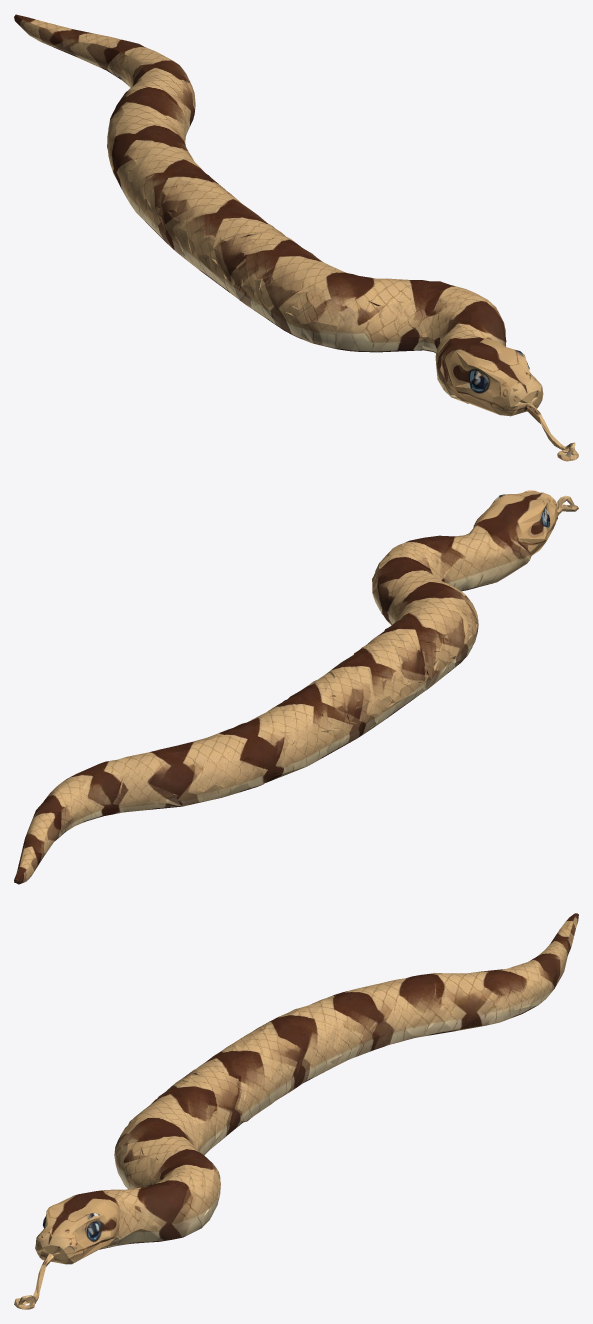
The model's file is rattlesnake.glb.
3 renders of one model, top to bottom at view 1: azimuth 30°, elevation 25°; view 2: azimuth 150°, elevation 25°; view 3: azimuth 330°, elevation 25°, orthographic. The views are drawn at different scales.
Size of the model in its own units: 0.3352 by 0.1075 by 1.9.
Materials: 1 (1 with a texture image).
